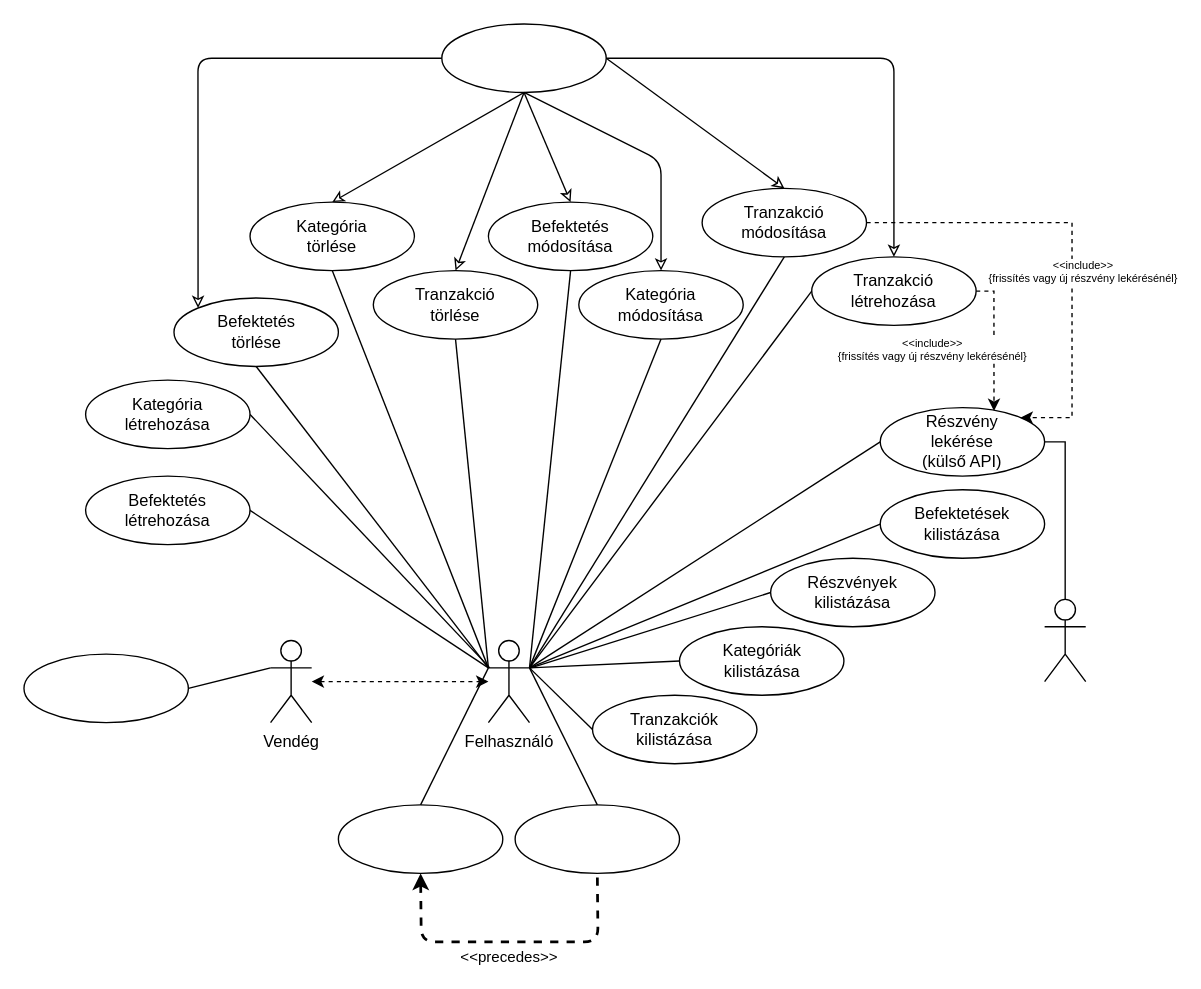
This 1201x989 diagram has some shape labels left out. The centre of each missing label's shape, as x and y in pixels:
"AlphaVantage API" goes at (1064,640).
"Bejelentkezés" goes at (597,838).
"Kijelentkezés" goes at (420,838).
"Regisztrálás" goes at (105,688).
"Részletek" goes at (523,57).
